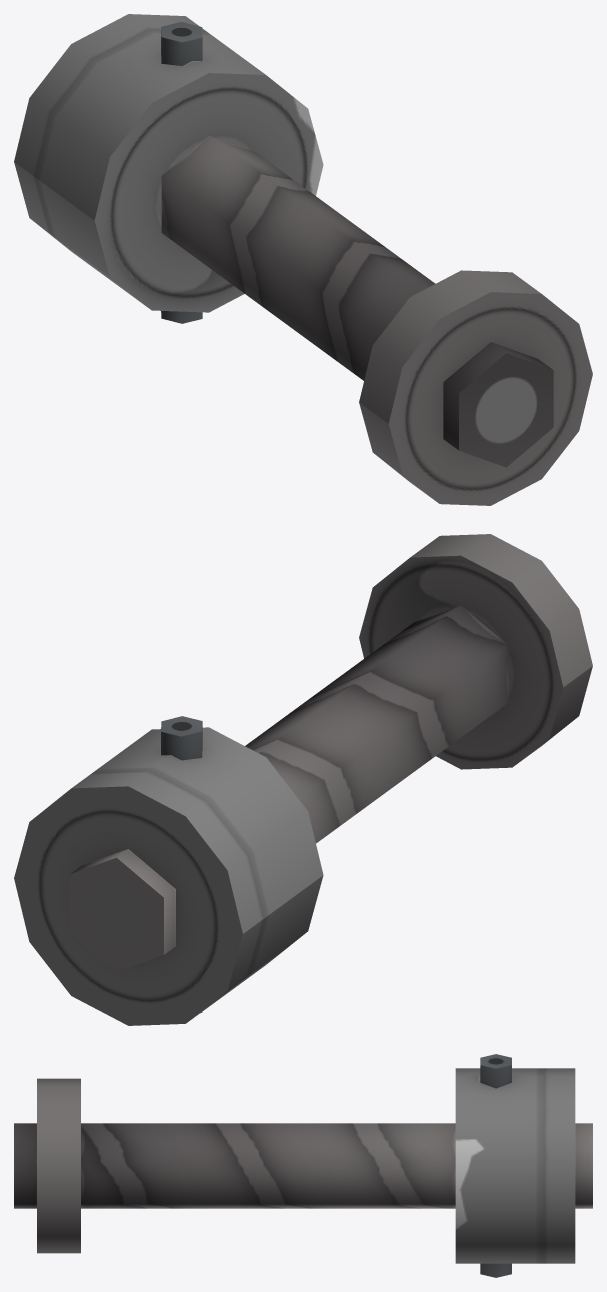
Rendered from obj_interactive_suspensionoffroad_01_off.fbx.
3 views of the same model, one above another, from view 1: azimuth 30°, elevation 25°; view 2: azimuth 150°, elevation 25°; view 3: azimuth 270°, elevation 25° (orthographic). The views are drawn at different scales.
Parts seen in each view (by area): view 1: obj_interactive_suspensionoffroad_01_off; view 2: obj_interactive_suspensionoffroad_01_off; view 3: obj_interactive_suspensionoffroad_01_off.
Boxes of the visible parts, x1=… form: obj_interactive_suspensionoffroad_01_off: x1=14, y1=14, x2=592, y2=505; obj_interactive_suspensionoffroad_01_off: x1=14, y1=534, x2=592, y2=1025; obj_interactive_suspensionoffroad_01_off: x1=14, y1=1054, x2=592, y2=1277.
Bounding box in the file's own units: 1.09 × 1.29 × 3.23.
